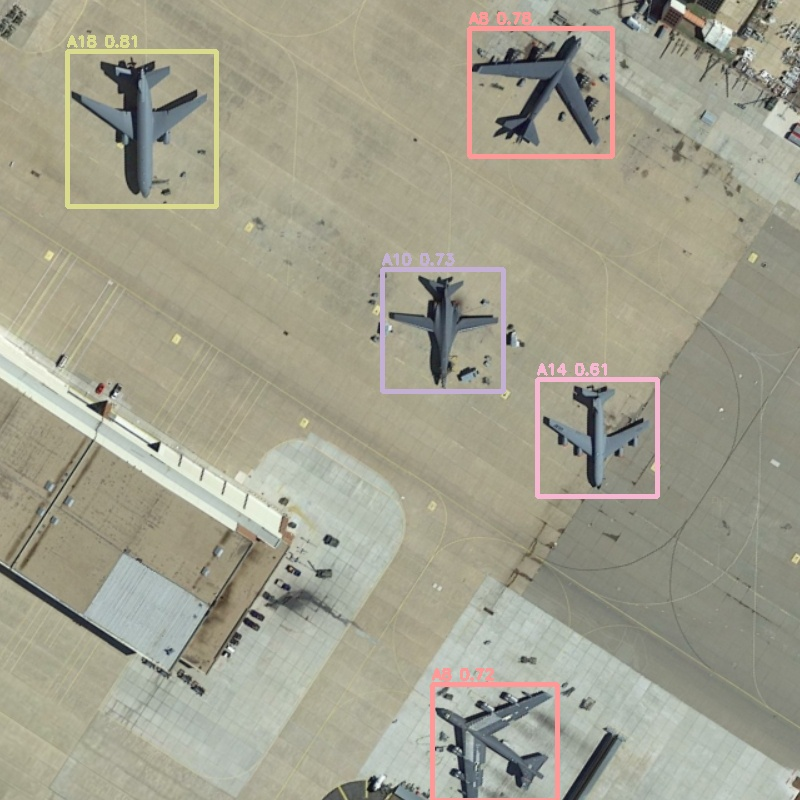A10: (382, 269, 503, 391)
A14: (537, 379, 657, 496)
A18: (67, 51, 216, 206)
A8: (469, 28, 612, 156), (432, 684, 557, 800)
